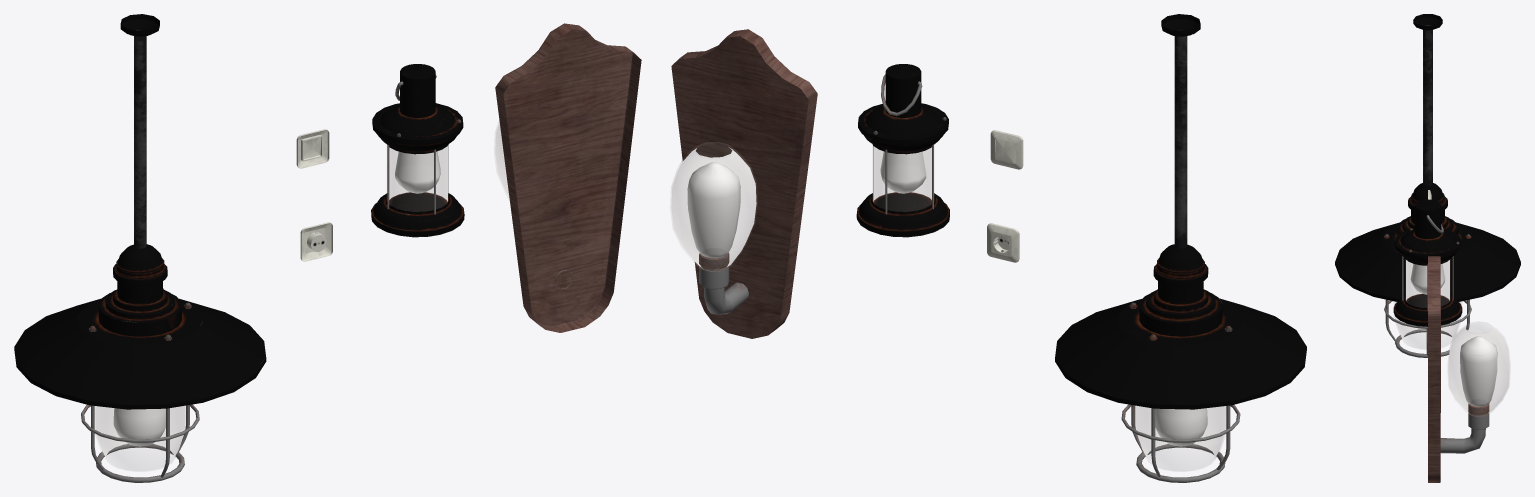
The picture shows the model from 3 angles, left to right: view 1: azimuth 30°, elevation 25°; view 2: azimuth 150°, elevation 25°; view 3: azimuth 270°, elevation 25°; orthographic projection. The views are drawn at different scales.
Parts seen in each view (by area): view 1: WallPart_low, LampTop1_low, LampTop_low, Glas1_low, LampBotom_low, Glas_low, Pole_low, Light1_low, Light_low, Frame1_low, Ring_low, Frame_low (+2 smaller); view 2: LampTop1_low, WallPart_low, Glas2_low, LampTop_low, Glas1_low, Light2_low, LampBotom_low, Glas_low, Pole_low, Stand_low, Light1_low, Light_low (+4 smaller); view 3: LampTop1_low, Glas2_low, WallPart_low, LampTop_low, Light2_low, Pole_low, LampBotom_low, Stand_low, Glas_low, Glas1_low, Light_low, PoleDeco_low (+2 smaller).
Part boxes in pixels (x1,y1,x2,y2): WallPart_low: (495,23,641,332); LampTop1_low: (14,244,266,409); LampTop_low: (372,64,463,154); Glas1_low: (95,406,186,471); LampBotom_low: (371,192,464,237); Glas_low: (389,145,448,211); Pole_low: (134,29,146,248); Light1_low: (113,408,165,446); Light_low: (395,151,440,193); Frame1_low: (300,222,332,261); Ring_low: (96,444,184,482); Frame_low: (296,129,329,168); LampTop1_low: (1055,244,1306,409); WallPart_low: (671,29,817,338); Glas2_low: (670,142,757,269); LampTop_low: (858,64,948,154); Glas1_low: (1135,406,1225,471); Light2_low: (687,162,740,258); LampBotom_low: (856,192,949,237); Glas_low: (873,146,931,211); Pole_low: (1174,29,1187,248); Stand_low: (699,253,748,314); Light1_low: (1155,408,1207,446); Light_low: (880,151,926,193); LampTop1_low: (1335,183,1520,301); Glas2_low: (1448,322,1509,415); WallPart_low: (1428,256,1440,482); LampTop_low: (1394,199,1461,265); Light2_low: (1460,336,1497,406); Pole_low: (1423,25,1432,185); LampBotom_low: (1393,293,1462,326); Stand_low: (1440,403,1489,453); Glas_low: (1406,260,1449,307); Glas1_low: (1394,302,1461,349); Light_low: (1410,264,1445,294); PoleDeco_low: (1413,14,1442,30).
Bounding box in the file's own units: 2 × 1.38 × 0.7181.
1 material, 1 textured.
